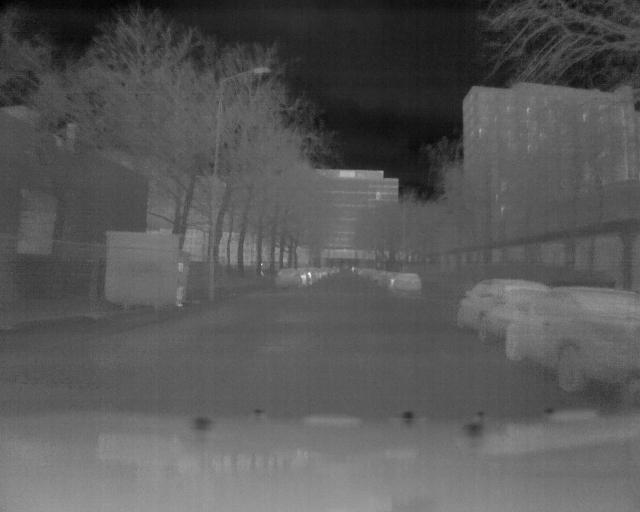car: (506, 279, 640, 388), (453, 275, 514, 336), (388, 269, 425, 297), (275, 266, 303, 291)
